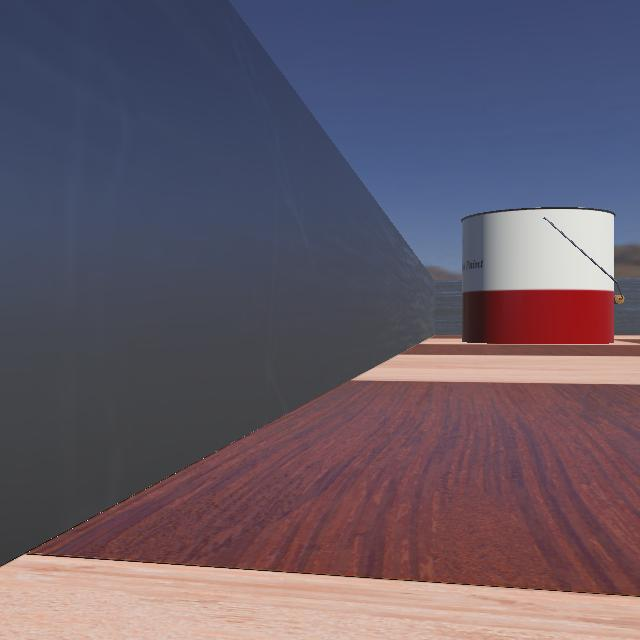paint-bucket: (447, 203, 639, 345)
